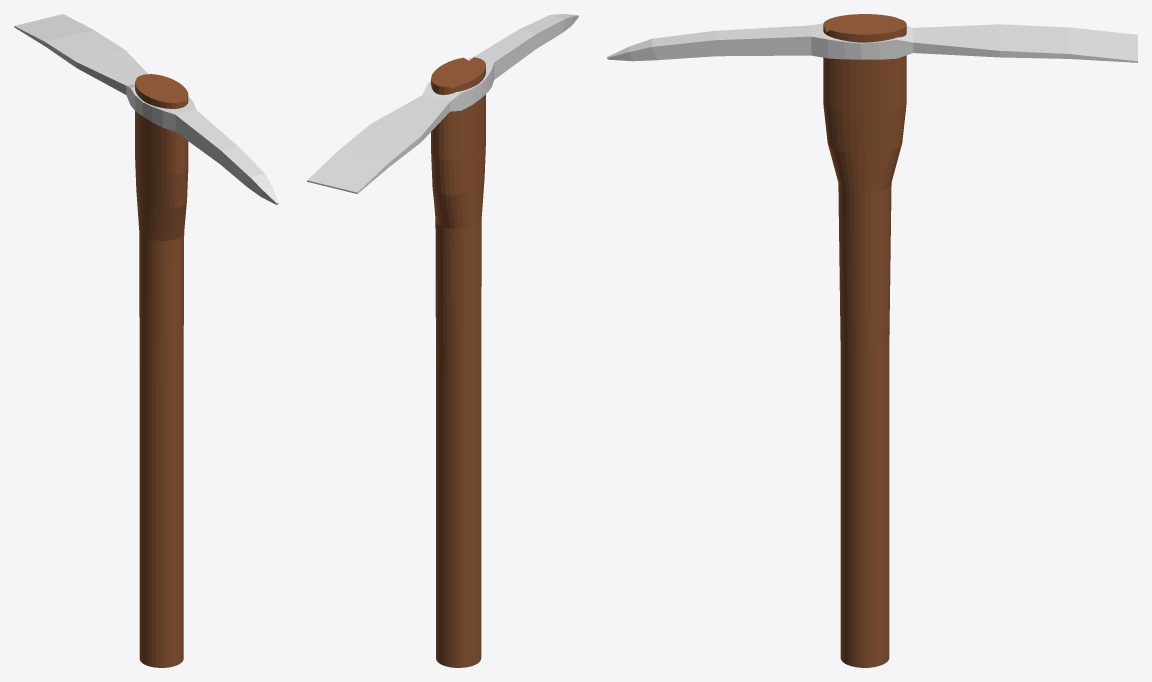
The model's file is pickaxe.gltf.
The picture shows the model from 3 angles, left to right: view 1: azimuth 30°, elevation 25°; view 2: azimuth 150°, elevation 25°; view 3: azimuth 270°, elevation 25°; orthographic projection. The views are drawn at different scales.
Visible parts, largest first — view 1: Cylinder, Cube; view 2: Cylinder, Cube; view 3: Cylinder, Cube.
Part boxes in pixels (left/top/right/bottom): Cylinder: left=135, top=74, right=188, bottom=667; Cube: left=14, top=14, right=278, bottom=204; Cylinder: left=431, top=57, right=485, bottom=667; Cube: left=307, top=14, right=578, bottom=193; Cylinder: left=823, top=14, right=906, bottom=667; Cube: left=607, top=23, right=1137, bottom=62.
Bounding box in the file's own units: 0.18 × 2 × 1.52.
